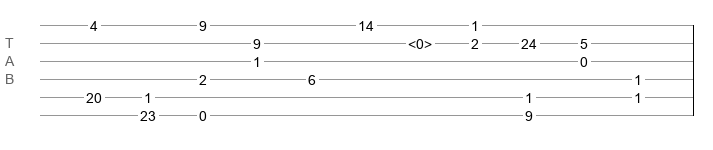0: (199, 108, 207, 118), (580, 54, 588, 64)
1: (144, 90, 152, 100), (253, 54, 261, 64), (471, 18, 479, 28), (525, 90, 533, 100), (634, 72, 642, 82), (634, 90, 642, 100)
14: (358, 18, 374, 28)
2: (199, 72, 207, 82), (471, 36, 479, 46)
20: (86, 90, 102, 100)
23: (140, 108, 156, 118)
24: (521, 36, 537, 46)
4: (90, 18, 98, 28)
5: (580, 36, 588, 46)
6: (308, 72, 316, 82)
9: (199, 18, 207, 28), (253, 36, 261, 46), (525, 108, 533, 118)
harmonic: (408, 36, 432, 46)
